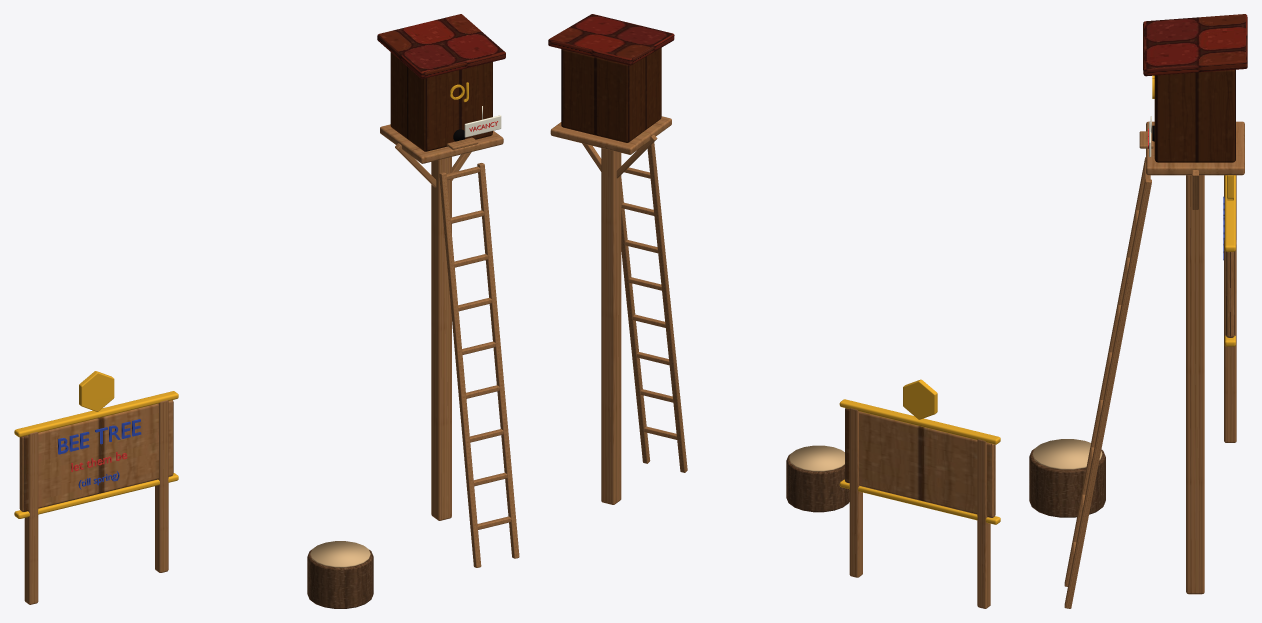
Rendered from beeyard.glb.
3 views of the same model, side by side, from view 1: azimuth 30°, elevation 25°; view 2: azimuth 150°, elevation 25°; view 3: azimuth 270°, elevation 25° (orthographic). The views are drawn at different scales.
Parts seen in each view (by area): view 1: by_board, by_box, by_post, by_roof, by_rail, by_rail.001, by_log, by_spost, by_spost.001, by_strip, by_shelf, by_logtop (+3 smaller); view 2: by_board, by_box, by_post, by_roof, by_rail, by_log, by_spost, by_spost.001, by_rail.001, by_shelf, by_strip, by_logtop (+2 smaller); view 3: by_post, by_box, by_roof, by_rail.001, by_log, by_shelf, by_rail, by_spost.001, by_logtop, by_board, by_strip.
Part boxes in pixels (bbox=[...]): by_board: bbox=[19, 400, 173, 511]; by_box: bbox=[390, 52, 492, 151]; by_post: bbox=[431, 157, 451, 520]; by_roof: bbox=[377, 14, 505, 78]; by_rail: bbox=[439, 172, 481, 567]; by_rail.001: bbox=[477, 163, 519, 558]; by_log: bbox=[307, 549, 373, 608]; by_spost: bbox=[24, 432, 38, 604]; by_spost.001: bbox=[155, 400, 168, 572]; by_strip: bbox=[14, 391, 178, 437]; by_shelf: bbox=[380, 124, 503, 163]; by_logtop: bbox=[310, 541, 370, 567]; by_board: bbox=[845, 408, 995, 517]; by_box: bbox=[561, 48, 661, 142]; by_post: bbox=[601, 148, 621, 504]; by_roof: bbox=[548, 14, 674, 65]; by_rail: bbox=[647, 142, 687, 472]; by_log: bbox=[786, 454, 849, 512]; by_spost: bbox=[977, 439, 990, 608]; by_spost.001: bbox=[849, 408, 862, 577]; by_rail.001: bbox=[621, 179, 650, 463]; by_shelf: bbox=[550, 116, 671, 154]; by_strip: bbox=[839, 399, 1000, 444]; by_logtop: bbox=[789, 445, 844, 471]; by_post: bbox=[1186, 175, 1204, 594]; by_box: bbox=[1154, 69, 1235, 162]; by_roof: bbox=[1143, 14, 1247, 76]; by_rail.001: bbox=[1064, 178, 1151, 608]; by_log: bbox=[1029, 449, 1105, 517]; by_shelf: bbox=[1146, 121, 1244, 175]; by_rail: bbox=[1064, 157, 1145, 586]; by_spost.001: bbox=[1224, 240, 1236, 442]; by_logtop: bbox=[1032, 439, 1102, 469]; by_board: bbox=[1225, 251, 1234, 337]; by_strip: bbox=[1224, 175, 1235, 251].
Bounding box in the file's own units: 5.25 × 5.31 × 1.88.
Materials: 11 (5 with a texture image).
